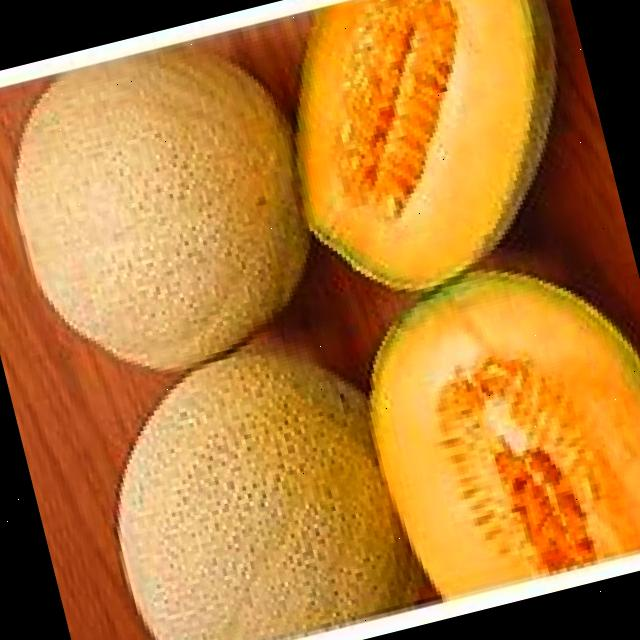Hami Melon: (0, 20, 334, 394), (337, 230, 640, 606), (253, 0, 612, 316), (77, 328, 424, 640)
